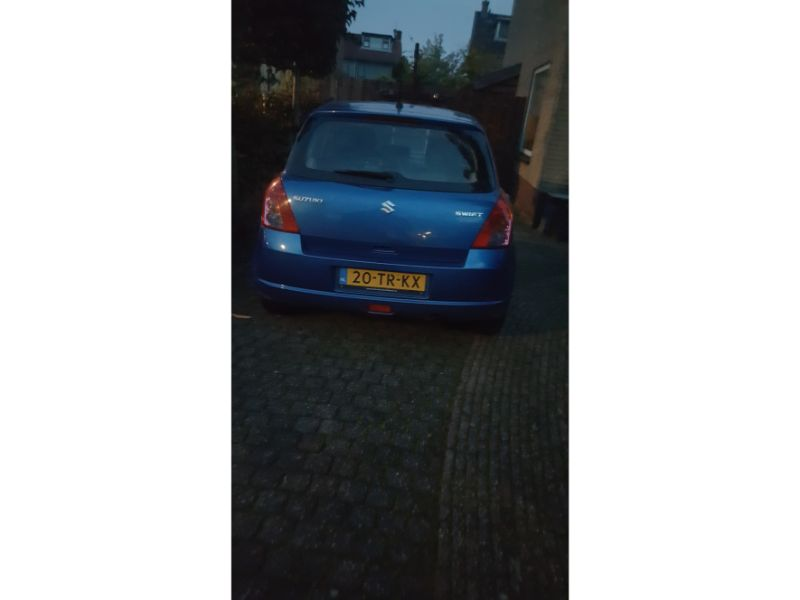kenteken: (335, 265, 430, 292)
